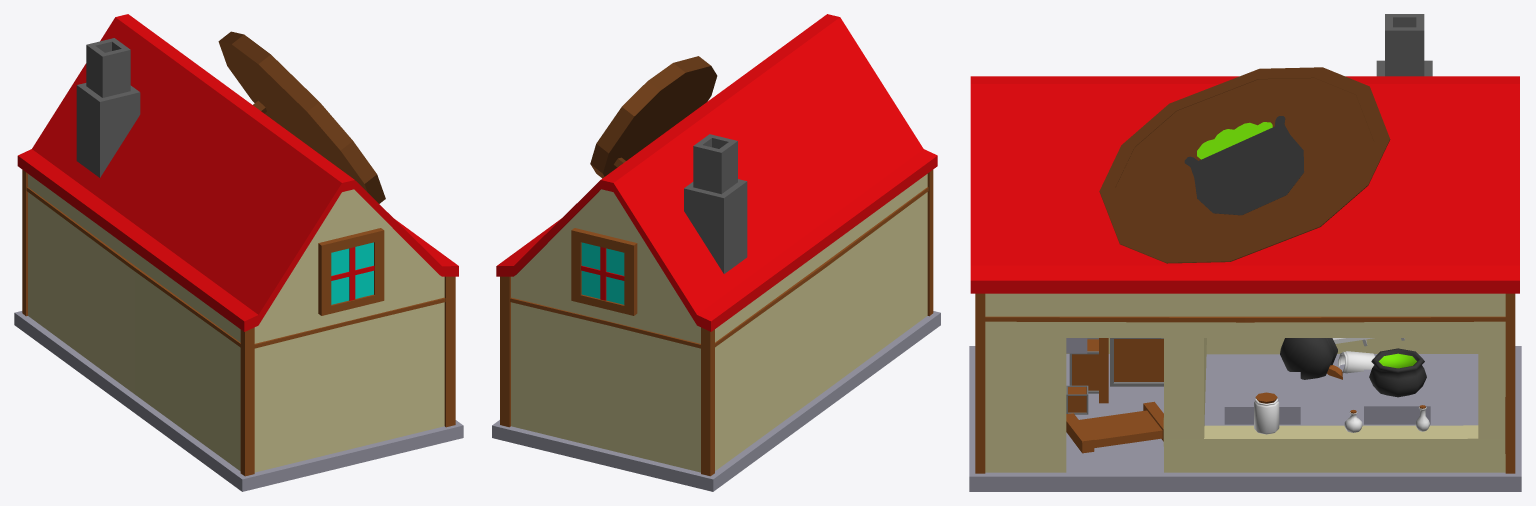
File: magic shop (1).fbx
3 renders of one model, left to right at view 1: azimuth 30°, elevation 25°; view 2: azimuth 150°, elevation 25°; view 3: azimuth 270°, elevation 25°, orthographic. The views are drawn at different scales.
Visible parts, largest first — view 1: walls.003, roof.002, ground.003, magic emblem, schoorsteen.003, window.002; view 2: walls.003, roof.002, ground.003, magic emblem, schoorsteen.003, window.002; view 3: roof.002, walls.003, magic emblem, ground.003, crates, schoorsteen.003, ketel, ketel.001, potion 3 empty, potion 3 blue mid.001.
Boxes of the visible parts, x1,y1,x2,y2 form: walls.003: (22, 170, 455, 476); roof.002: (17, 14, 458, 331); ground.003: (14, 311, 463, 491); magic emblem: (218, 31, 385, 203); schoorsteen.003: (76, 38, 140, 177); window.002: (318, 228, 384, 315); walls.003: (500, 170, 933, 476); roof.002: (496, 14, 937, 331); ground.003: (492, 311, 940, 491); magic emblem: (590, 56, 717, 178); schoorsteen.003: (684, 134, 747, 273); window.002: (571, 228, 637, 315); roof.002: (970, 76, 1519, 293); walls.003: (975, 293, 1515, 473); magic emblem: (1099, 67, 1390, 263); ground.003: (969, 346, 1521, 491); crates: (1066, 338, 1163, 414); schoorsteen.003: (1376, 14, 1432, 76); ketel: (1369, 348, 1426, 397); ketel.001: (1280, 338, 1337, 379); potion 3 empty: (1254, 392, 1279, 434); potion 3 blue mid.001: (1327, 351, 1375, 379).
Size of the model in its own units: 4.04 by 5.49 by 7.2.
